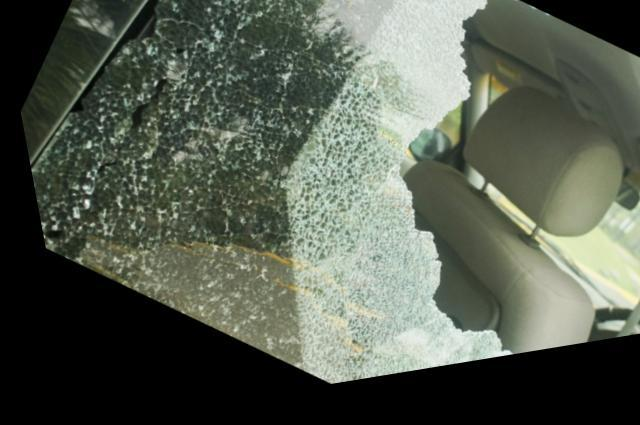glass shatter: (25, 0, 640, 392)
